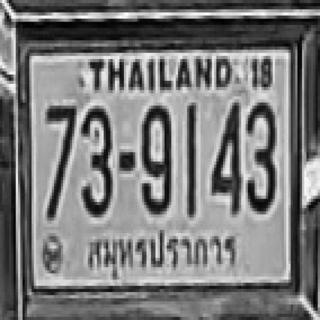N01: (186, 103, 195, 214)
N03: (79, 106, 110, 214), (246, 99, 275, 211)
N04: (211, 99, 240, 211)
N07: (44, 102, 76, 218)
N09: (140, 103, 169, 211)
P57: (82, 225, 242, 278)
